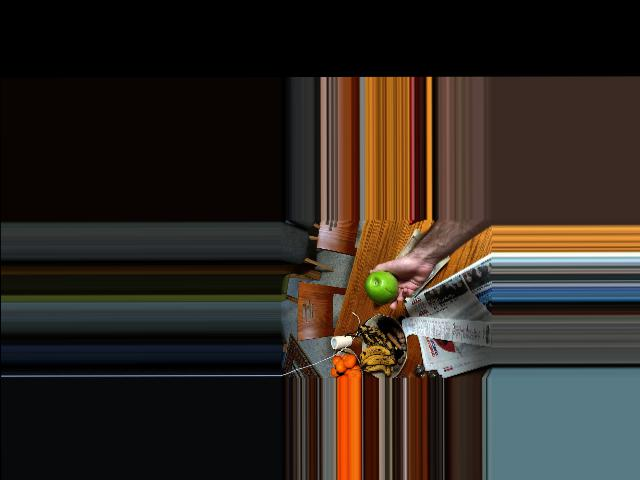apple: (365, 270, 399, 303)
